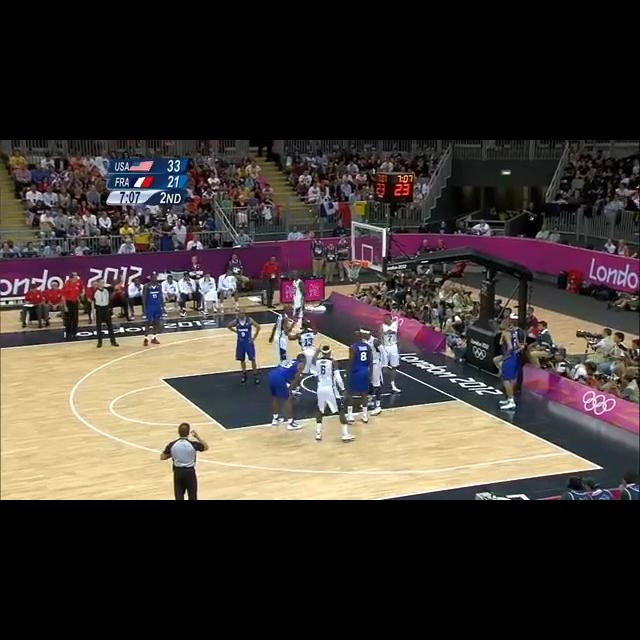hoop: (342, 261, 364, 279)
